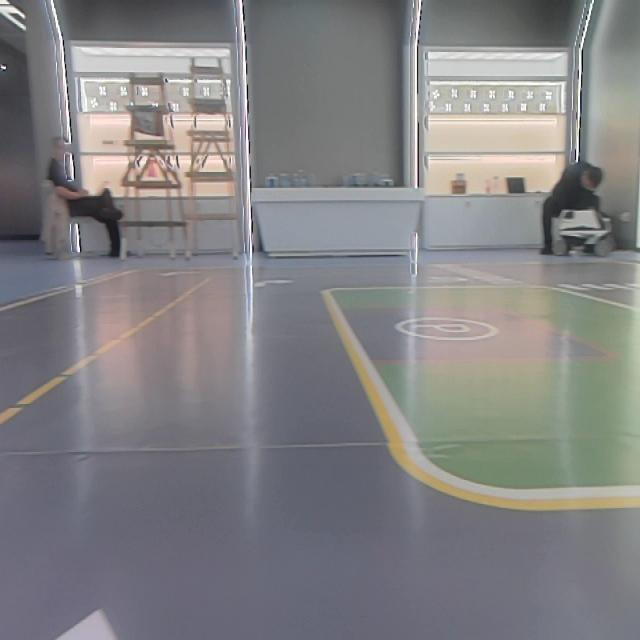left_lane: (0, 287, 195, 428)
right_lane: (324, 292, 409, 445), (0, 267, 123, 315)
